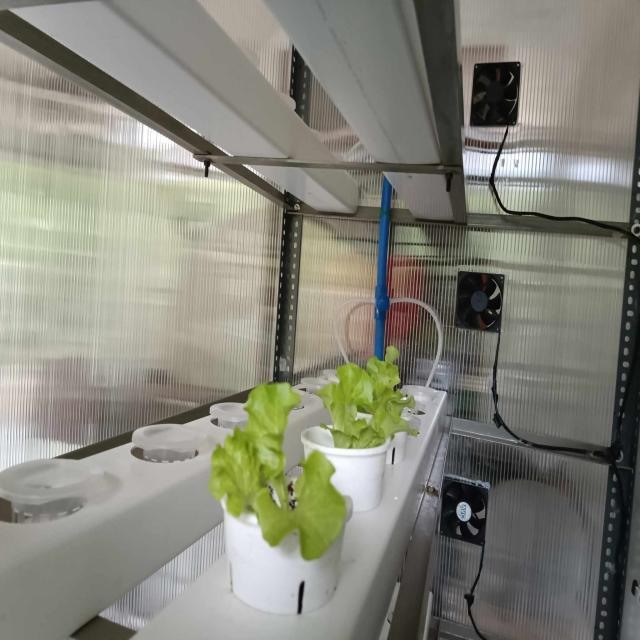Lettuce-Not-Ready-to-Harvest: (209, 380, 350, 567), (320, 363, 418, 461)
